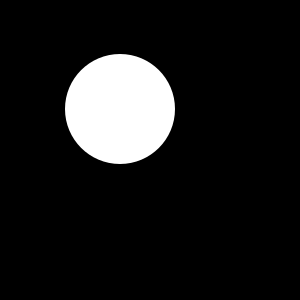rectangle: (65, 54, 175, 164)
